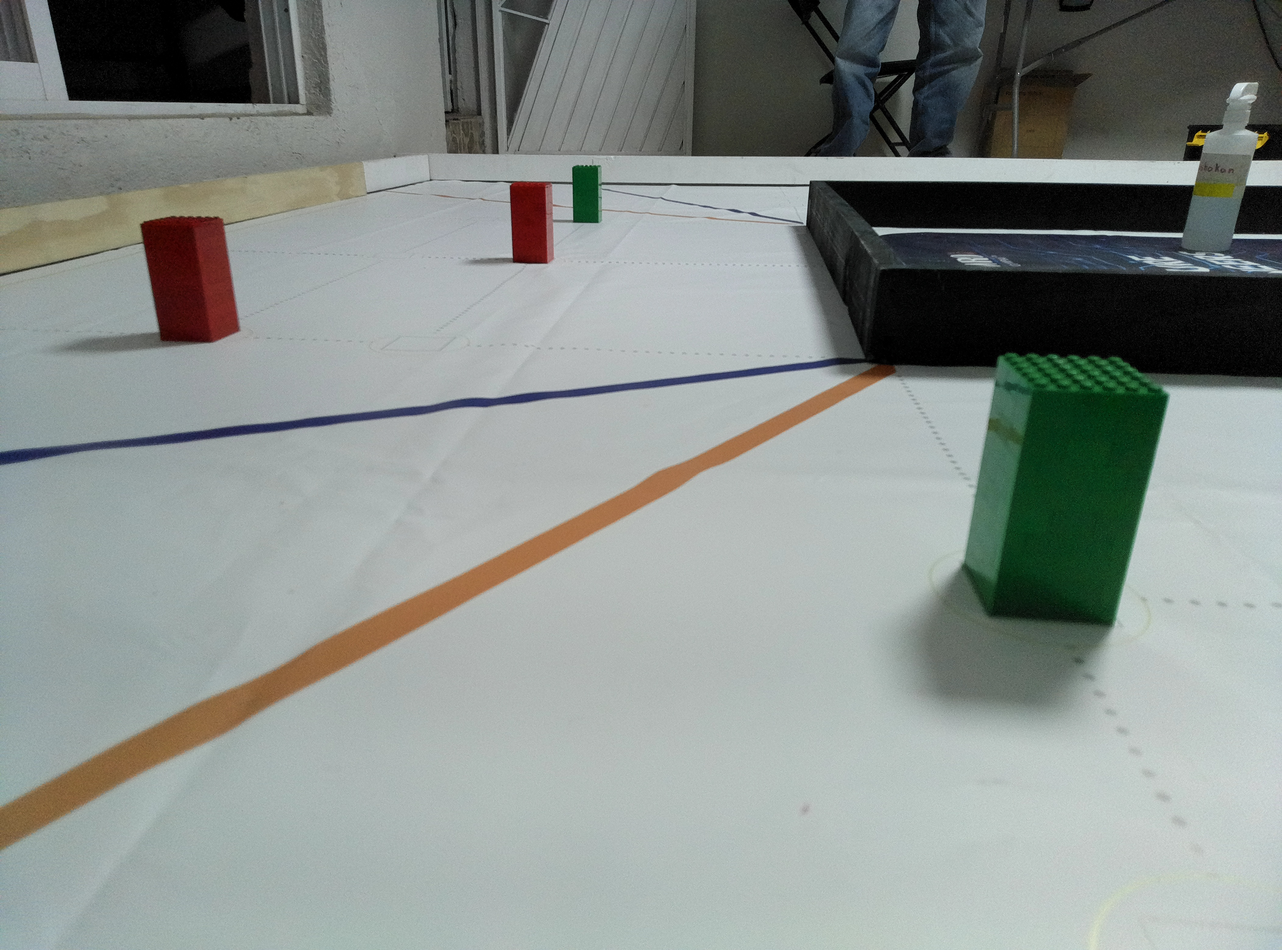greenbox: (959, 343, 1172, 631), (571, 163, 603, 224)
redbox: (134, 215, 246, 344), (508, 182, 558, 265)
